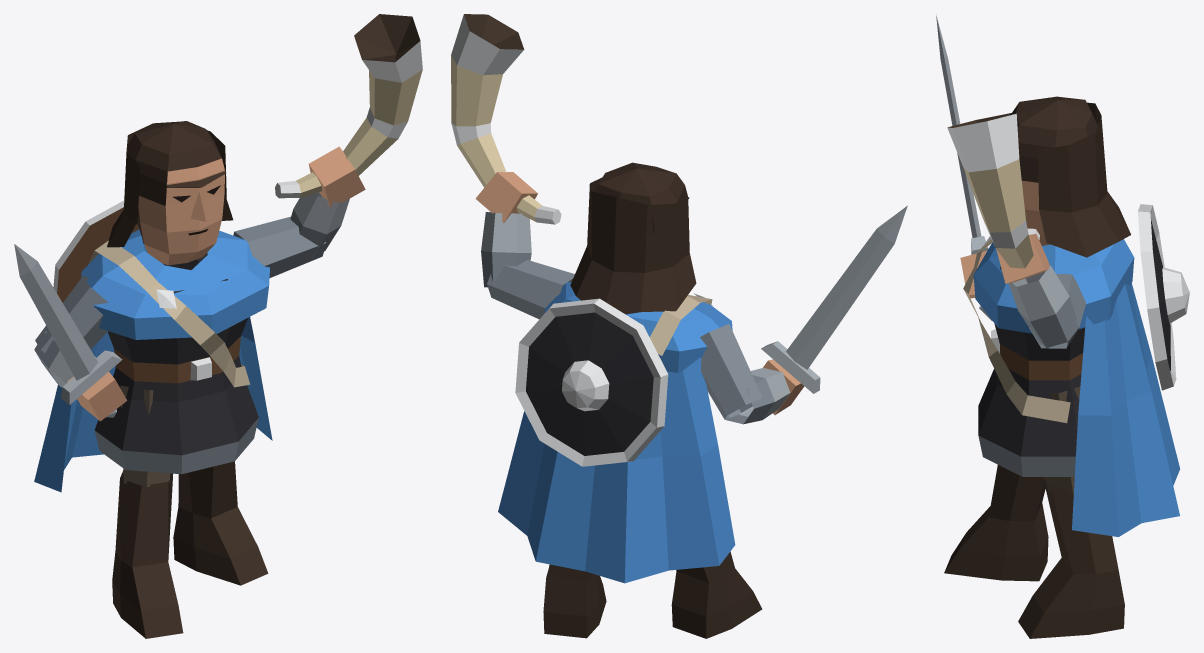
File: boromir.glb
3 renders of one model, left to right at view 1: azimuth 30°, elevation 25°; view 2: azimuth 150°, elevation 25°; view 3: azimuth 270°, elevation 25°, orthographic. The views are drawn at different scales.
Visible parts, largest first — view 1: boromir; view 2: boromir; view 3: boromir.
Part boxes in pixels (bbox=[...]): boromir: bbox=[14, 14, 422, 638]; boromir: bbox=[451, 14, 907, 638]; boromir: bbox=[936, 14, 1189, 638].
Size of the model in its own units: 1.4 by 1.68 by 0.6628.
